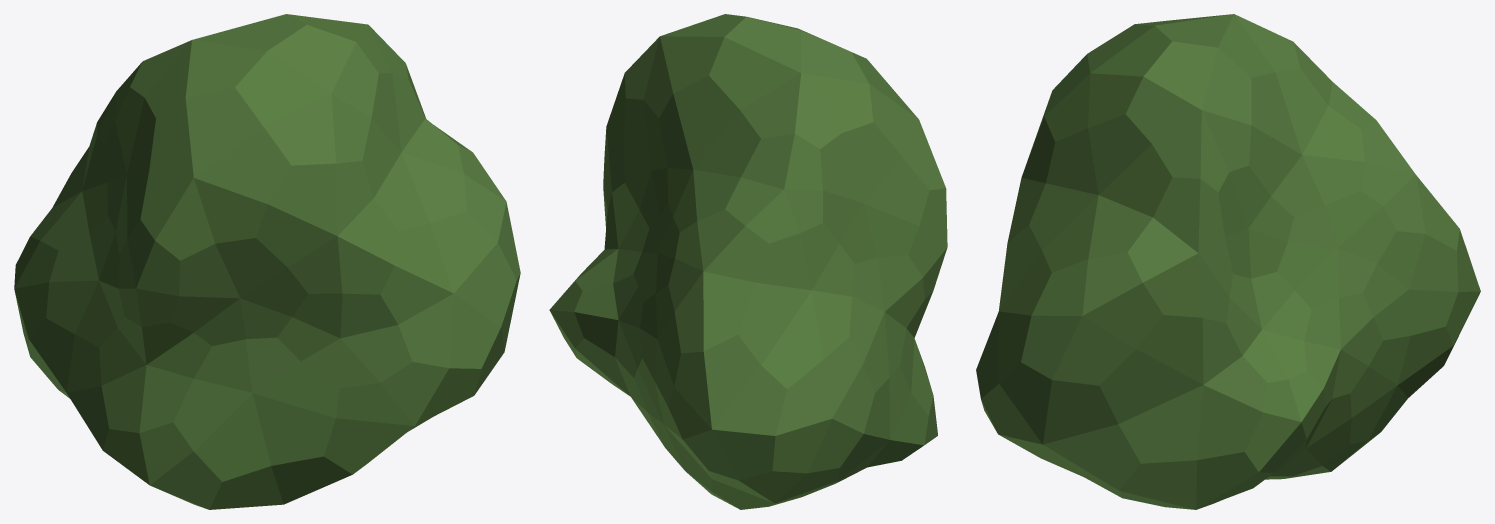
The model's file is bush4.fbx.
The picture shows the model from 3 angles, left to right: view 1: azimuth 30°, elevation 25°; view 2: azimuth 150°, elevation 25°; view 3: azimuth 270°, elevation 25°; orthographic projection. The views are drawn at different scales.
Parts seen in each view (by area): view 1: Icosphere.009; view 2: Icosphere.009; view 3: Icosphere.009.
Part boxes in pixels (left/top/right/bottom): Icosphere.009: left=14, top=14, right=520, bottom=509; Icosphere.009: left=549, top=14, right=947, bottom=509; Icosphere.009: left=976, top=14, right=1480, bottom=509.
Size of the model in its own units: 85.59 by 99.33 by 99.57.
